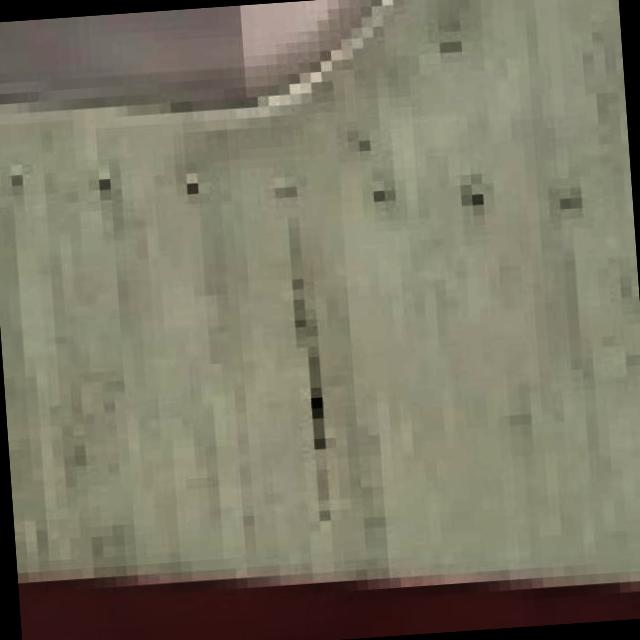crack: (260, 241, 364, 517)
